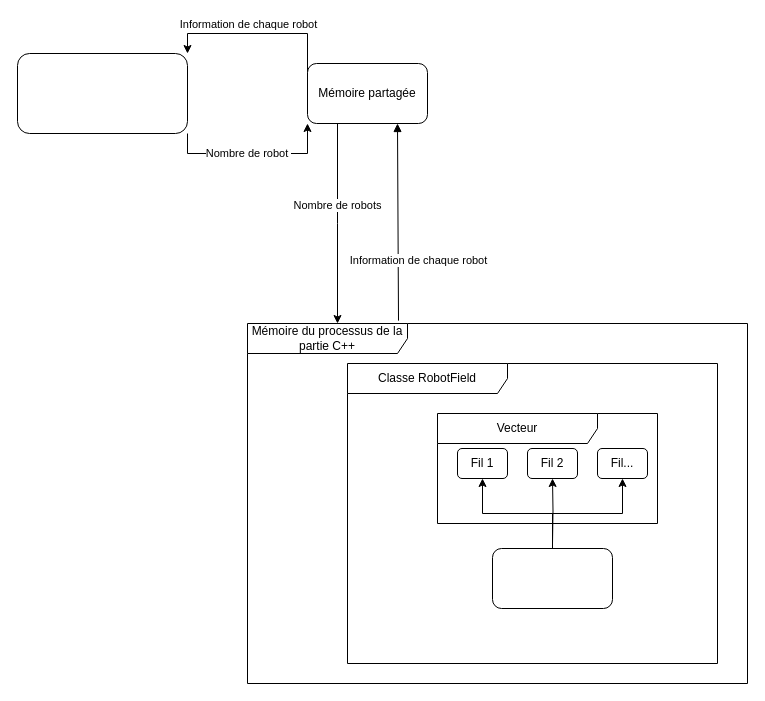
The diagram is 765 pixels wide and 701 high, and some of its shapes have lost their labels. The centre of each missing label's shape, as x and y in pixels:
Attributs de classe: [552,578]
Mémoire du processus de la partie python: [102,93]
